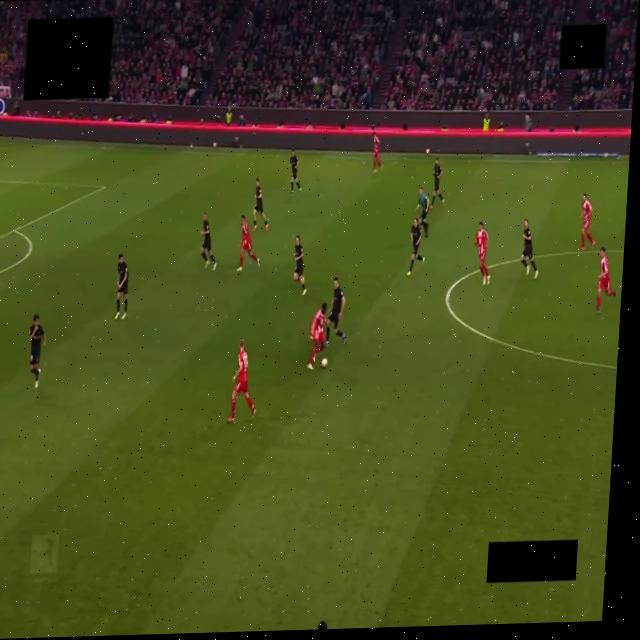ball: (321, 358, 327, 368)
player: (228, 339, 255, 422), (325, 278, 345, 347), (236, 216, 259, 272), (596, 247, 615, 313), (28, 315, 45, 388), (307, 303, 325, 369), (406, 219, 423, 275), (474, 222, 489, 285), (521, 220, 537, 279), (200, 214, 215, 270), (580, 193, 594, 250), (252, 178, 267, 231), (115, 254, 127, 319), (293, 236, 305, 295), (431, 159, 443, 205), (289, 150, 300, 194), (372, 132, 381, 173)
referee: (416, 187, 431, 237)
